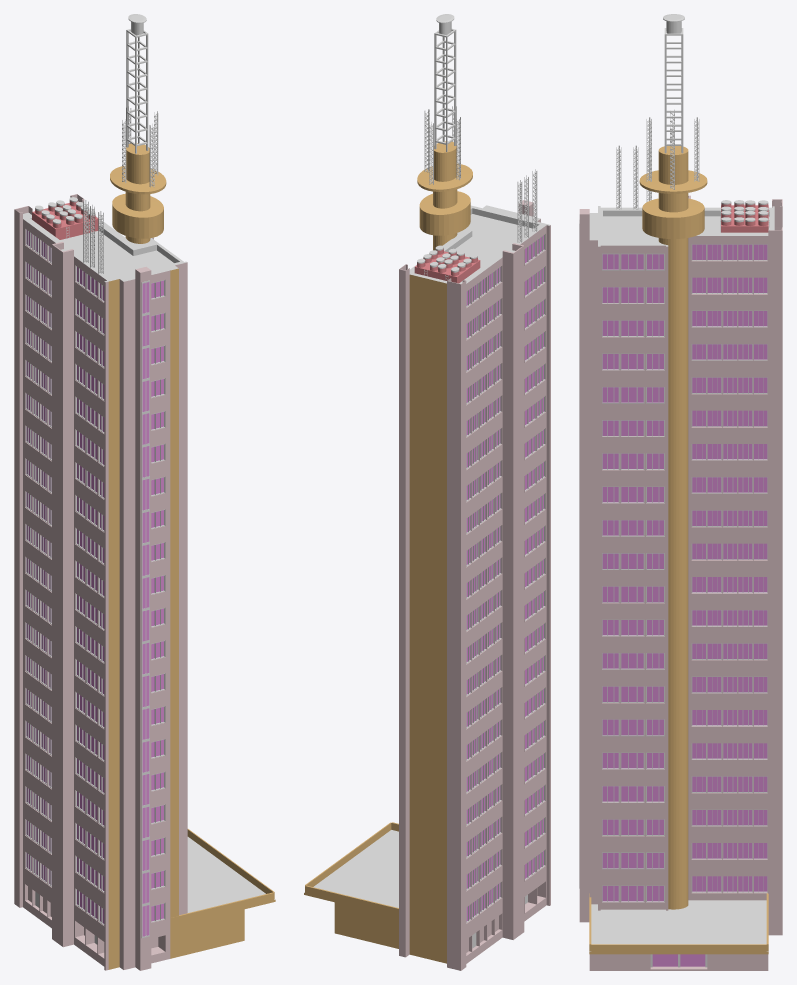
File: skyscraper2.fbx
The picture shows the model from 3 angles, left to right: view 1: azimuth 30°, elevation 25°; view 2: azimuth 150°, elevation 25°; view 3: azimuth 270°, elevation 25°; orthographic projection. The views are drawn at different scales.
Visible parts, largest first — view 1: skyscraper2; view 2: skyscraper2; view 3: skyscraper2.
Boxes of the visible parts, x1=… form: skyscraper2: x1=14, y1=14, x2=275, y2=970; skyscraper2: x1=304, y1=14, x2=550, y2=970; skyscraper2: x1=579, y1=14, x2=782, y2=970.
Bounding box in the file's own units: 2000 × 10000 × 2000.
